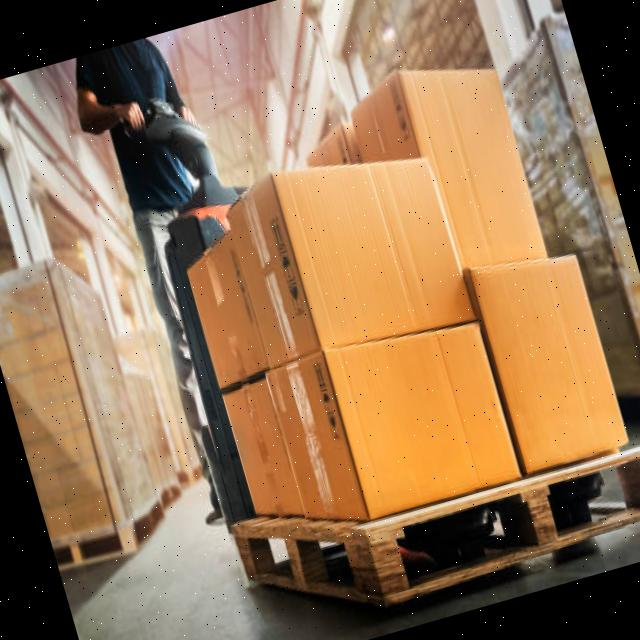Wooden-Pallets: (231, 438, 640, 611)
